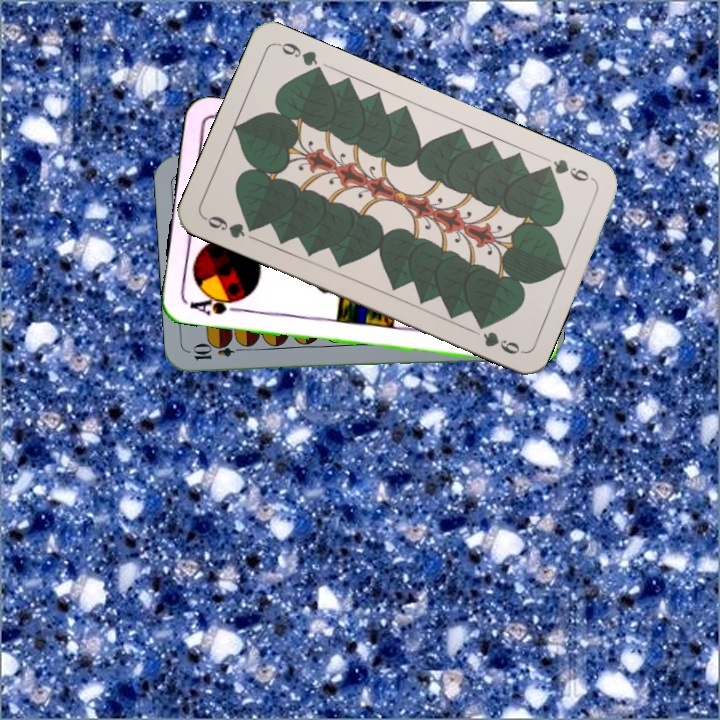E10: (189, 342, 248, 363)
G9: (200, 211, 260, 241), (537, 155, 597, 184)
SA: (185, 290, 245, 319)
